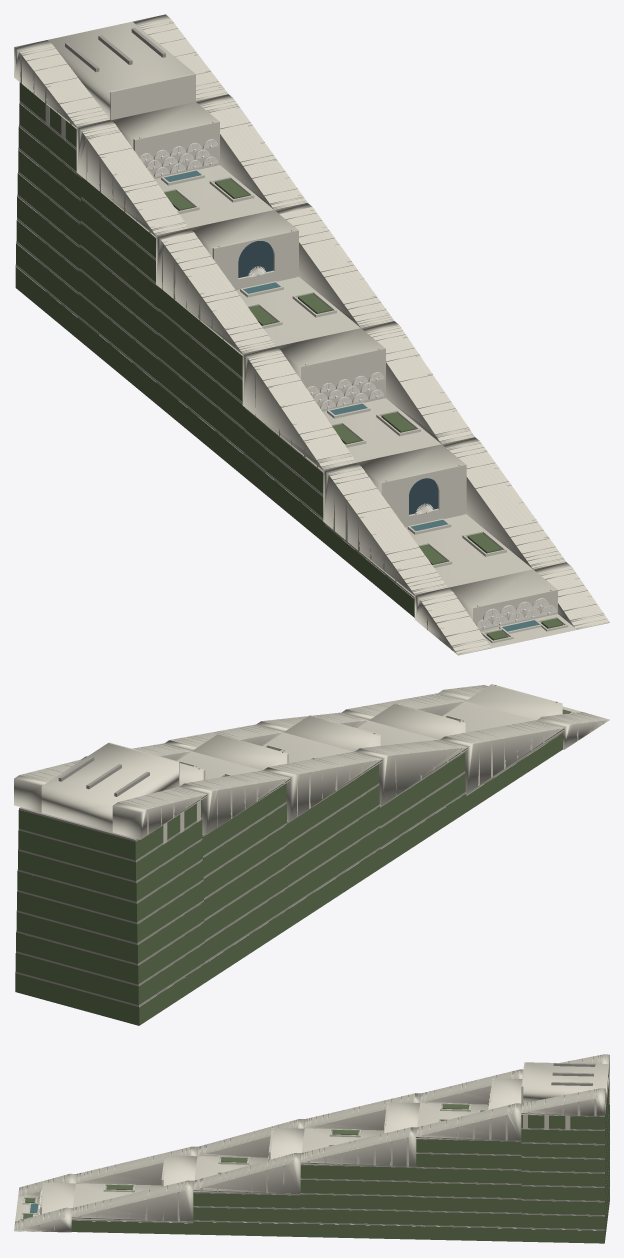
Rendered from yerevan-cascade-near.glb.
3 views of the same model, one above another, from view 1: azimuth 30°, elevation 25°; view 2: azimuth 150°, elevation 25°; view 3: azimuth 270°, elevation 25° (orthographic). The views are drawn at different scales.
Visible parts, largest first — view 1: yerevan-cascade-0-stone, yerevan-cascade-0-garden, yerevan-cascade-0-concrete, yerevan-cascade-0-relief, yerevan-cascade-0-glass, yerevan-cascade-0-water; view 2: yerevan-cascade-0-garden, yerevan-cascade-0-stone, yerevan-cascade-0-concrete; view 3: yerevan-cascade-0-garden, yerevan-cascade-0-stone, yerevan-cascade-0-concrete.
Boxes of the visible parts, x1=… form: yerevan-cascade-0-stone: x1=14, y1=14, x2=609, y2=655; yerevan-cascade-0-garden: x1=15, y1=82, x2=562, y2=640; yerevan-cascade-0-concrete: x1=15, y1=28, x2=463, y2=598; yerevan-cascade-0-relief: x1=139, y1=139, x2=557, y2=629; yerevan-cascade-0-glass: x1=238, y1=241, x2=437, y2=514; yerevan-cascade-0-water: x1=164, y1=170, x2=539, y2=631; yerevan-cascade-0-garden: x1=15, y1=710, x2=569, y2=1025; yerevan-cascade-0-stone: x1=14, y1=684, x2=609, y2=993; yerevan-cascade-0-concrete: x1=15, y1=731, x2=562, y2=1006; yerevan-cascade-0-garden: x1=23, y1=1079, x2=609, y2=1243; yerevan-cascade-0-stone: x1=14, y1=1054, x2=609, y2=1232; yerevan-cascade-0-concrete: x1=71, y1=1063, x2=609, y2=1230.
Bounding box in the file's own units: 64.62 × 79.2 × 289.
